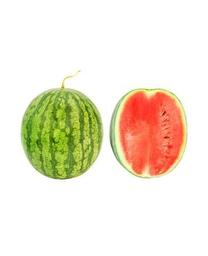watermelon: (19, 86, 104, 178), (109, 87, 187, 178)
